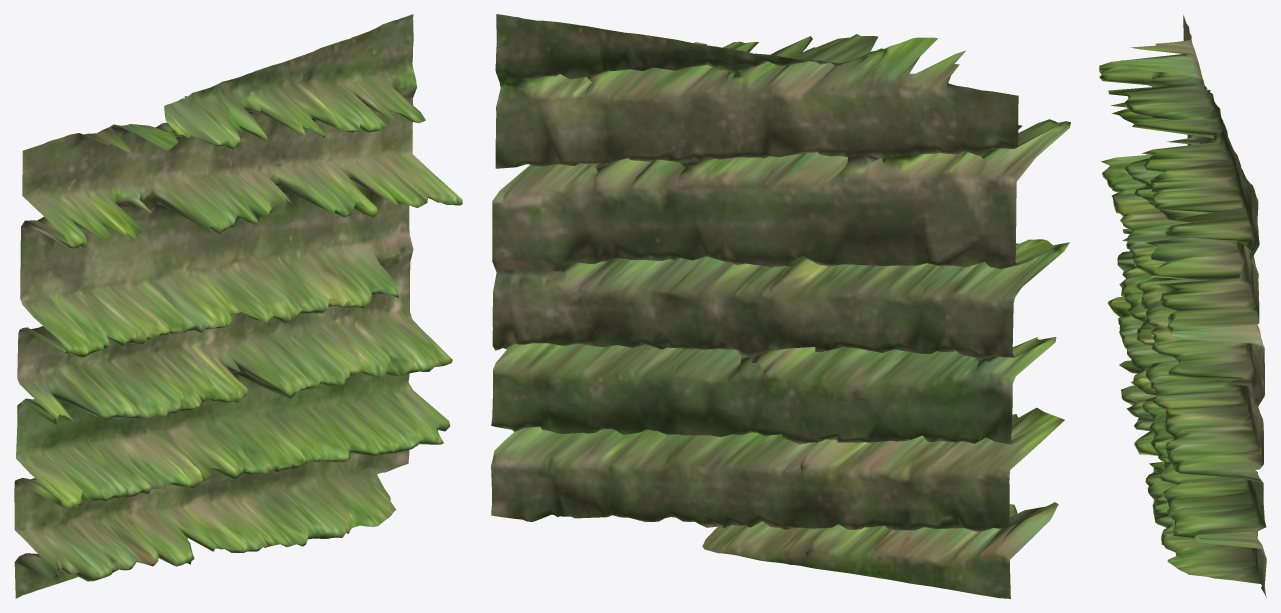
File: map_70_0_fixed.obj
3 views of the same model, side by side, from view 1: azimuth 30°, elevation 25°; view 2: azimuth 150°, elevation 25°; view 3: azimuth 270°, elevation 25° (orthographic). The views are drawn at different scales.
Visible parts, largest first — view 1: map_70_0.obj; view 2: map_70_0.obj; view 3: map_70_0.obj.
Part boxes in pixels (bbox=[...]): map_70_0.obj: bbox=[14, 14, 462, 598]; map_70_0.obj: bbox=[491, 14, 1070, 598]; map_70_0.obj: bbox=[1099, 15, 1266, 598].
Bounding box in the file's own units: 10 × 10 × 3.81.
1 material, 1 textured.
